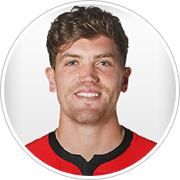smile: (73, 87, 103, 102)
